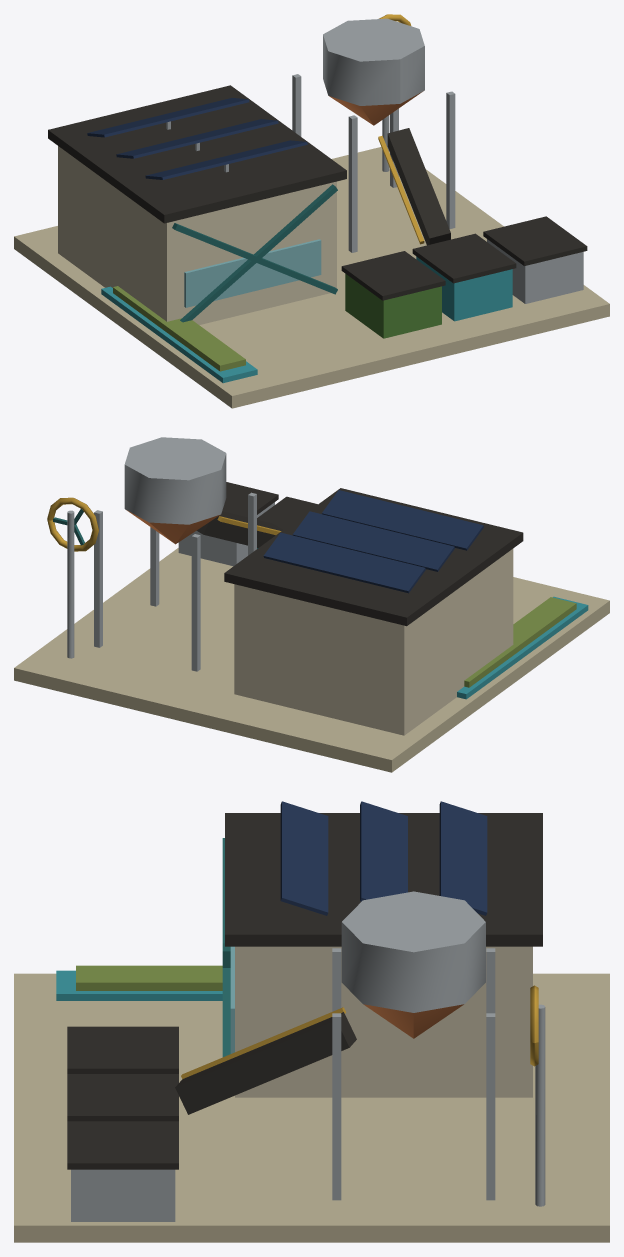
File: b16-reclamation-hub-v2-lod0.glb
The picture shows the model from 3 angles, top to bottom: view 1: azimuth 30°, elevation 25°; view 2: azimuth 150°, elevation 25°; view 3: azimuth 270°, elevation 25°; orthographic projection. The views are drawn at different scales.
Parts seen in each view (by area): view 1: MESH_B16_RECLAMATION_HUB; view 2: MESH_B16_RECLAMATION_HUB; view 3: MESH_B16_RECLAMATION_HUB.
Part boxes in pixels (left/top/right/bottom): MESH_B16_RECLAMATION_HUB: left=14, top=14, right=609, bottom=408; MESH_B16_RECLAMATION_HUB: left=14, top=437, right=609, bottom=772; MESH_B16_RECLAMATION_HUB: left=14, top=801, right=609, bottom=1242.
Size of the model in its own units: 12 by 5.8 by 12.
